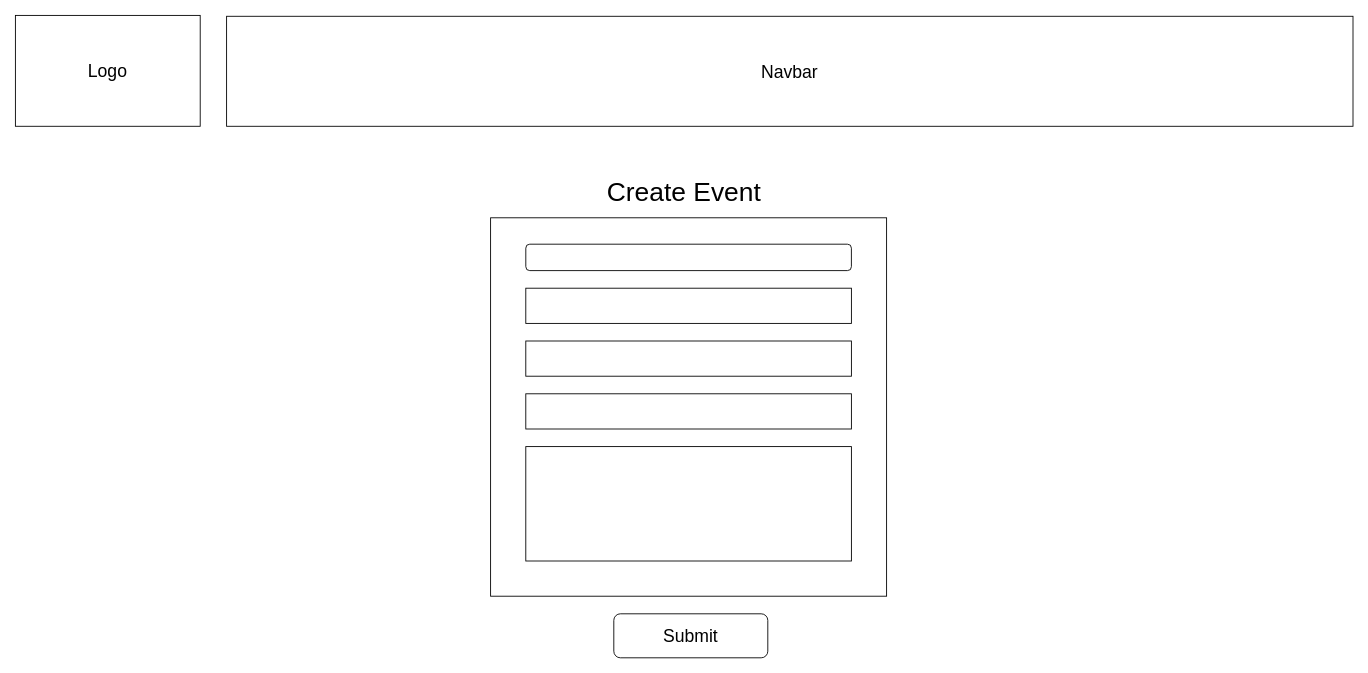
Some shapes in this 1368 by 673 pixel diagram are drawn without their labels. The centre of each missing label's shape, as x and y in pixels:
Details: the point at 688,503
Title: the point at 688,257
